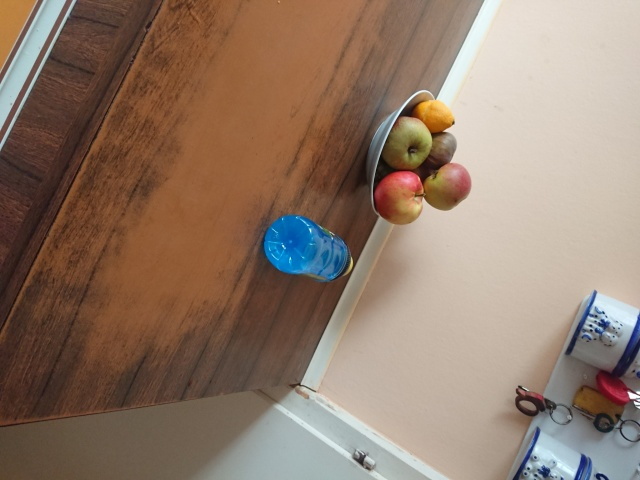Vindi Iso Sport Forest Strawberries 500mL: (262, 212, 357, 283)
